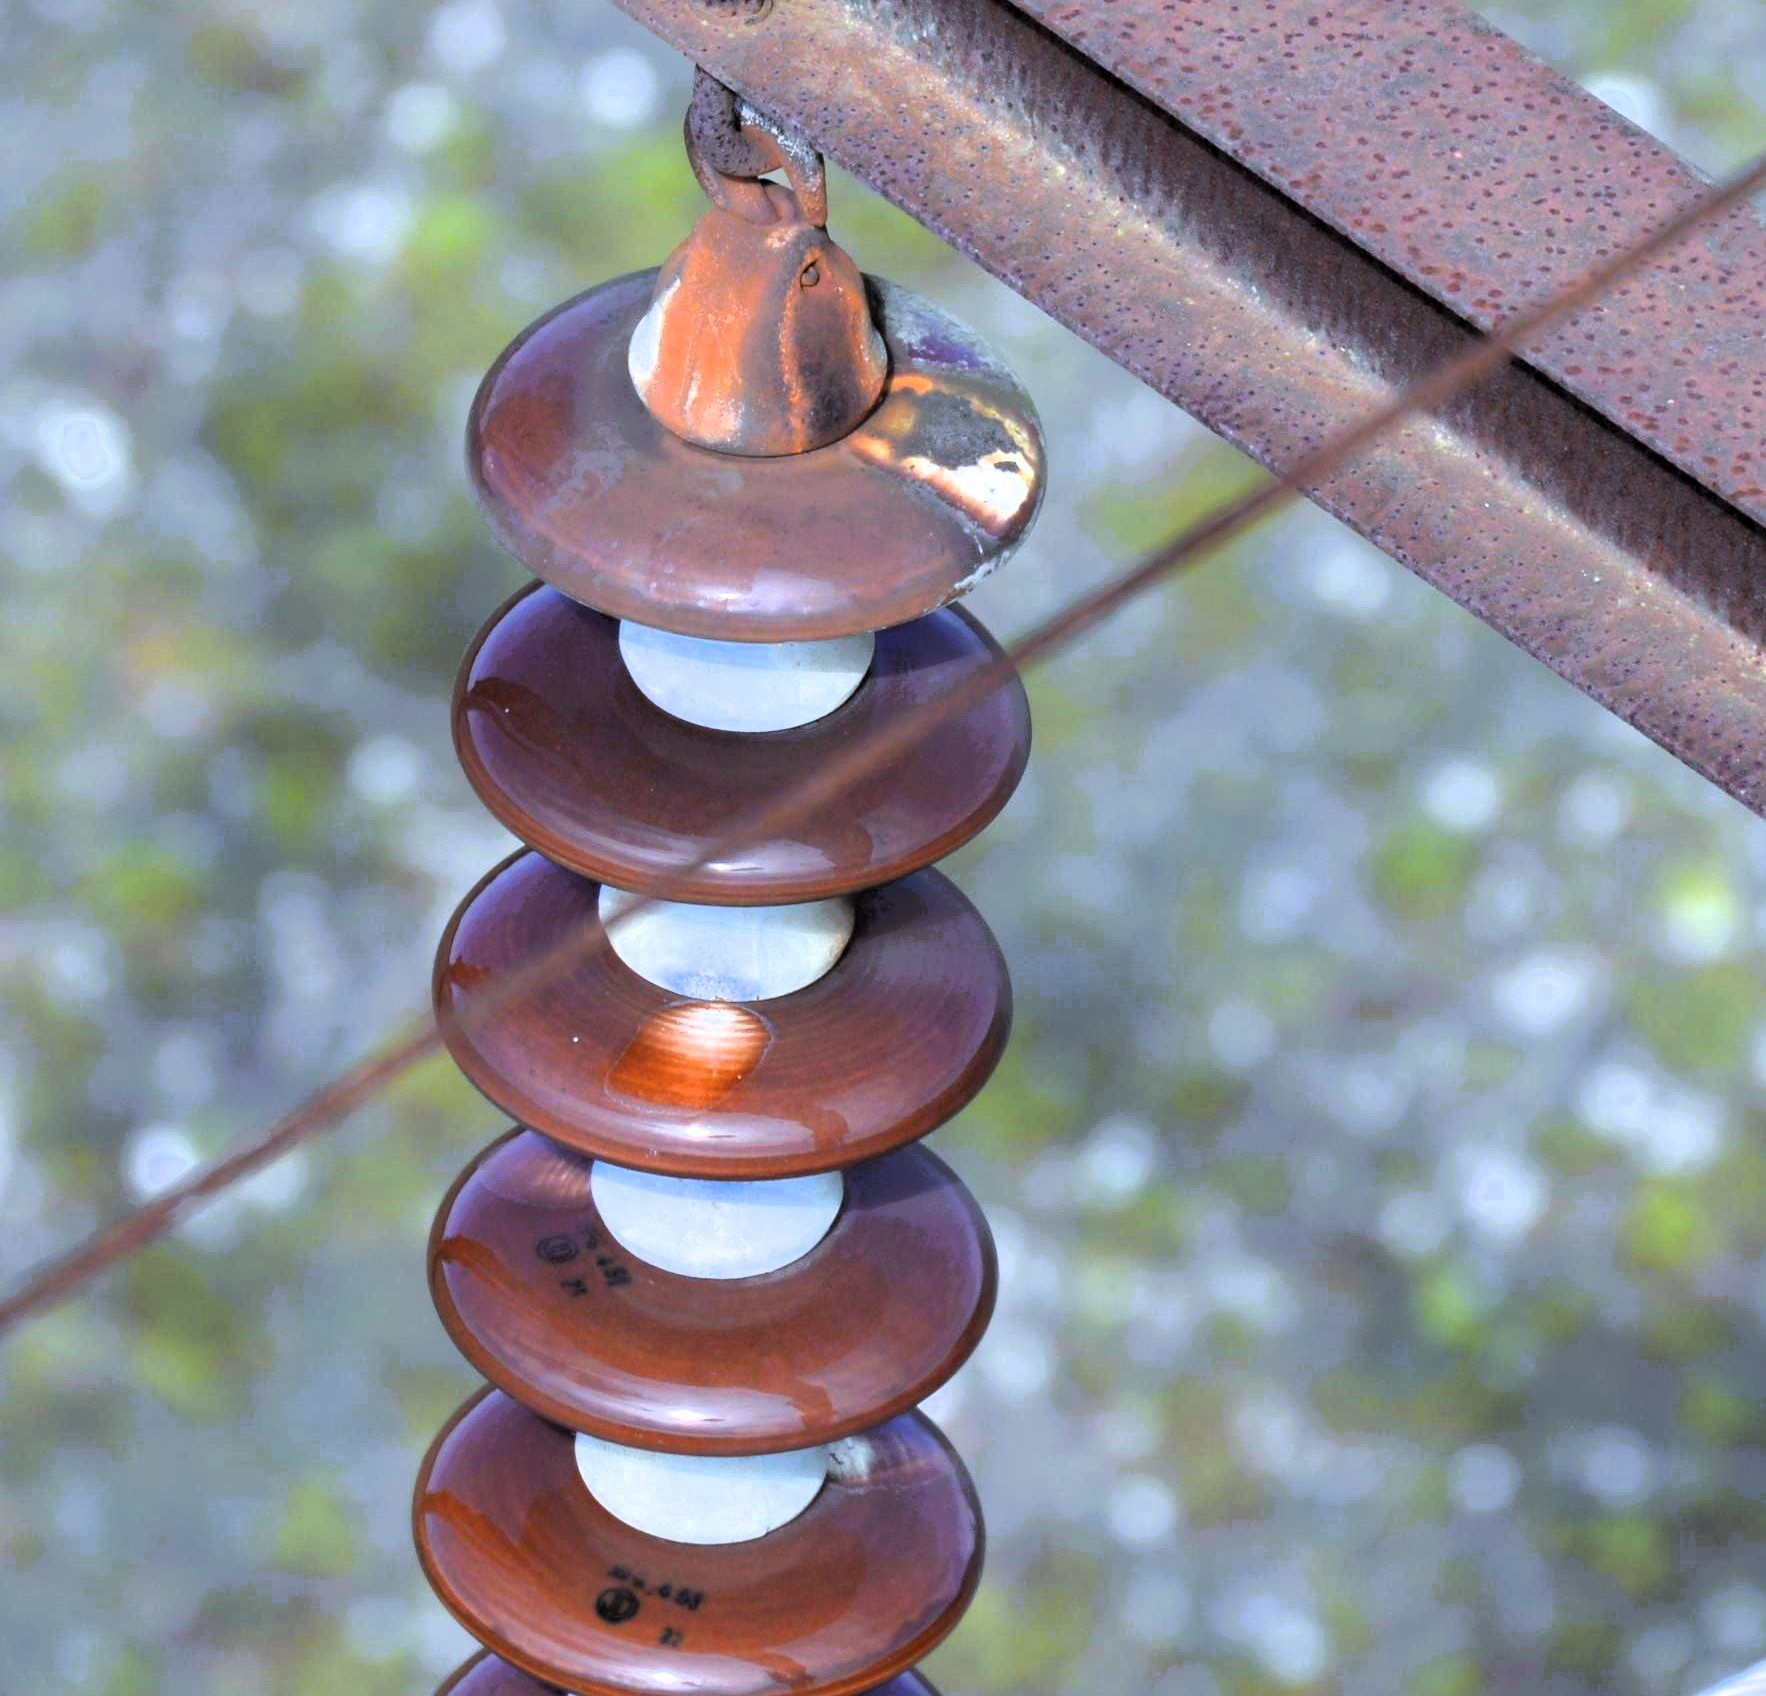Insulator flashover: (446, 240, 1063, 656), (418, 853, 1025, 1193)
